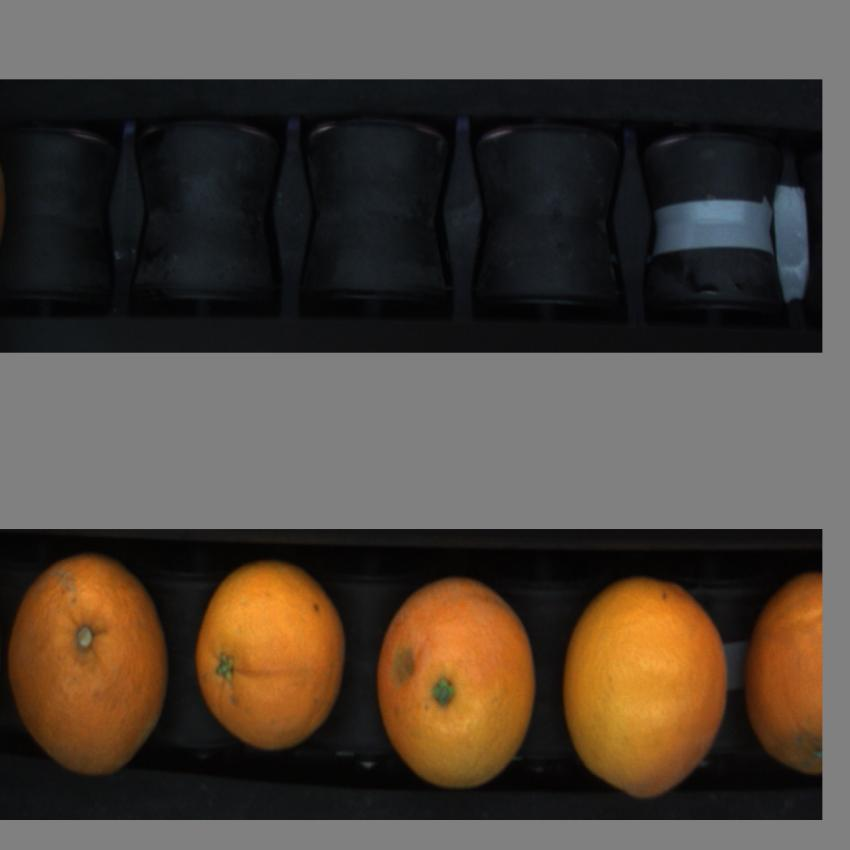Buen estado: (4, 548, 174, 786), (558, 567, 726, 802), (371, 572, 544, 797), (195, 553, 348, 765)
Mal estado: (742, 572, 820, 787)
